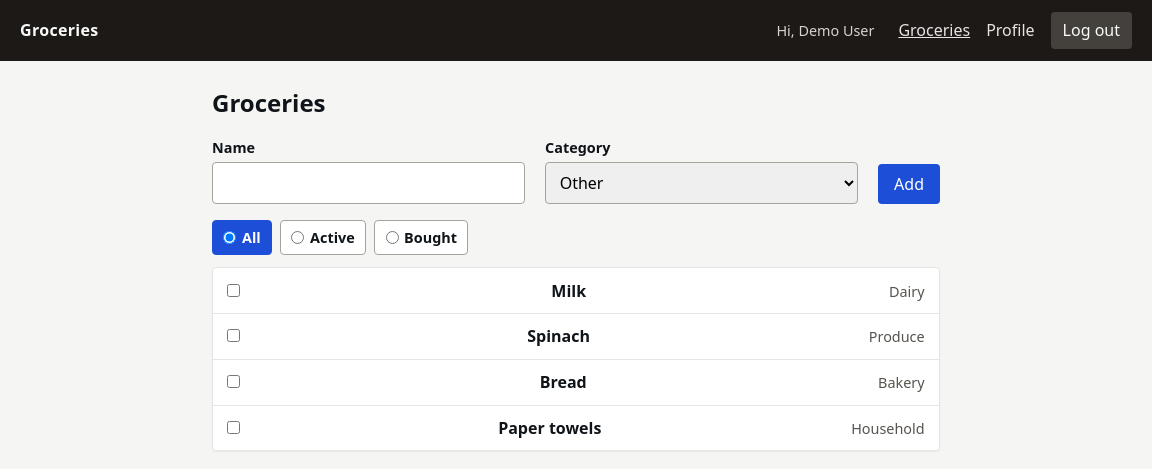
Test: GroceriesPage › marking an item bought on Active filter removes it from the visible list
The image size is (1152, 469).
Check: the heading "Groceries" is shown, box [212,86,326,119]
Click the radio button labelled "Active".
click(298, 238)  # box [292,231,304,244]
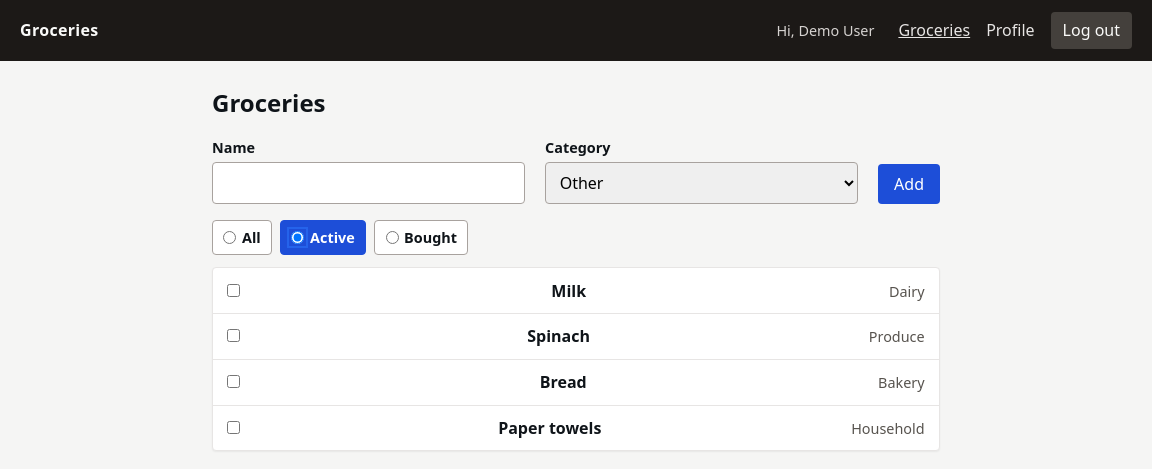
Check: the text "Spinach" is shown, box [527,324,590,348]
Click the checkbox named "mark spinach as bought".
click(234, 336)  # box [227,329,240,342]
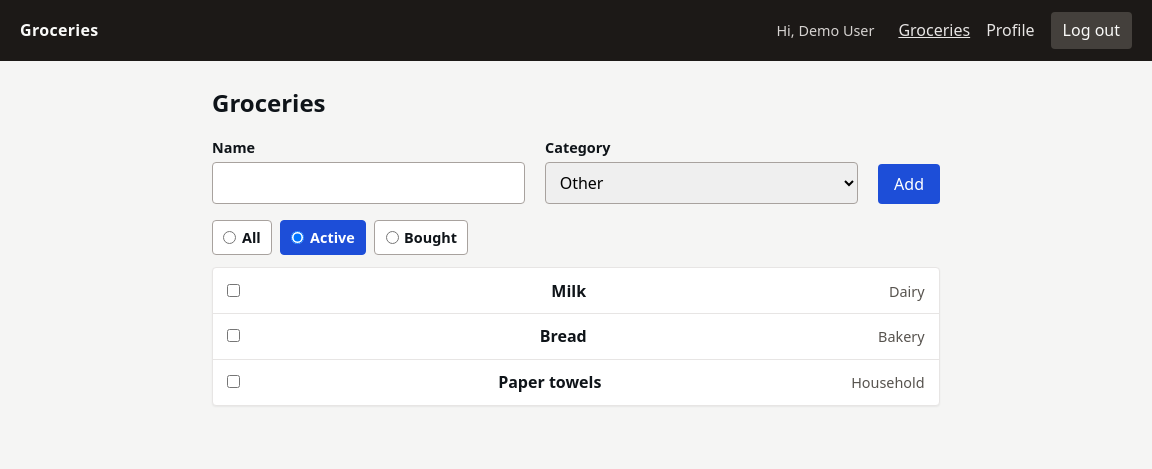
Check: the text "Spinach" is gone
